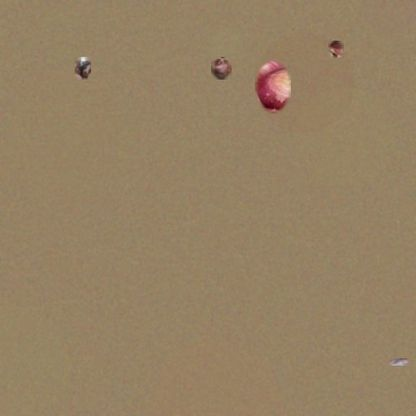damaged: (389, 358, 410, 366)
healthy: (255, 58, 291, 114)
rotten: (211, 57, 232, 80), (75, 57, 91, 80)
sprouted: (328, 41, 344, 58)
